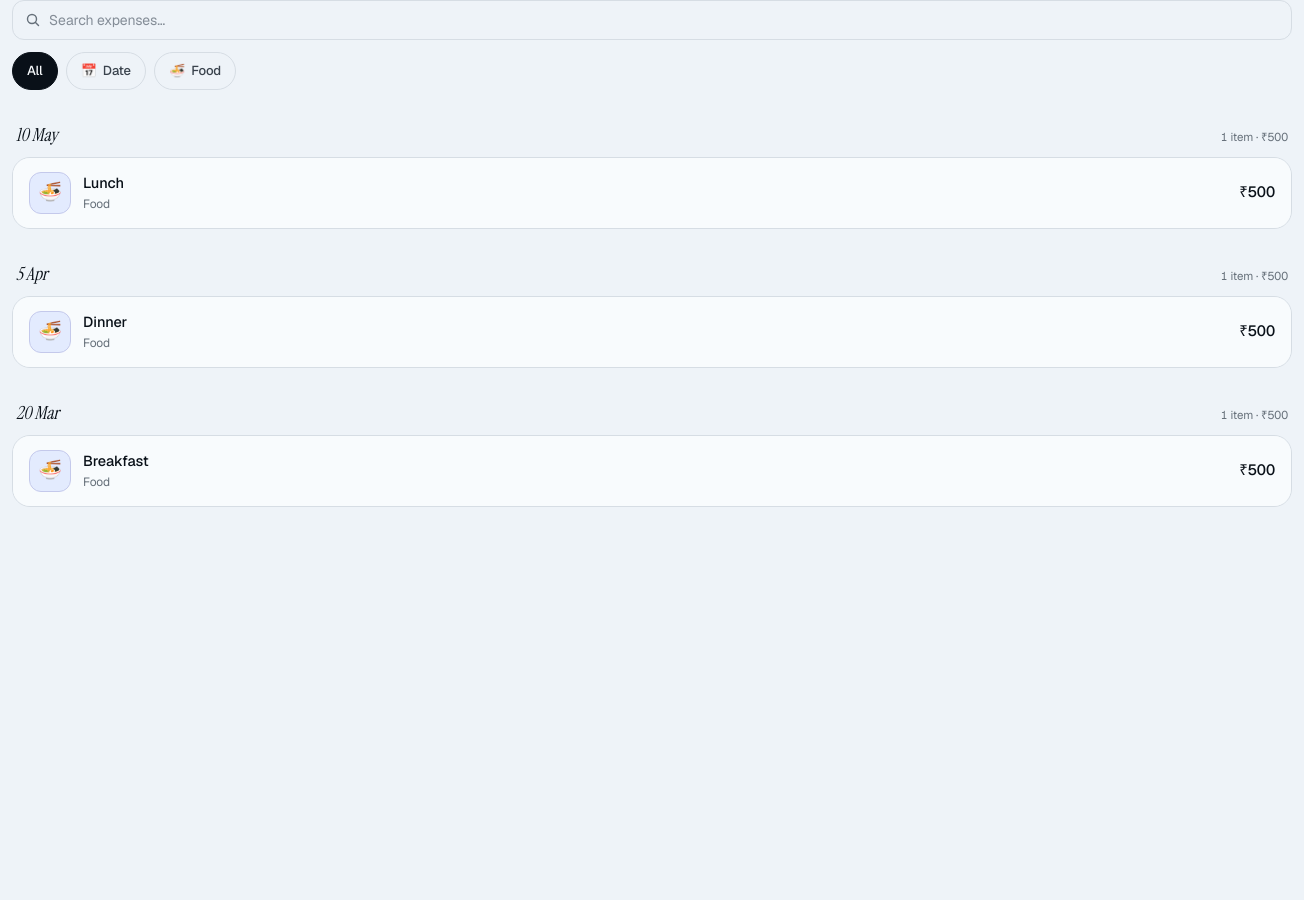
Test: MobileExpenses — date row validation › shows an inline error when from > to
Click the button "📅 Date" at (106, 71), box [66,52,146,90]
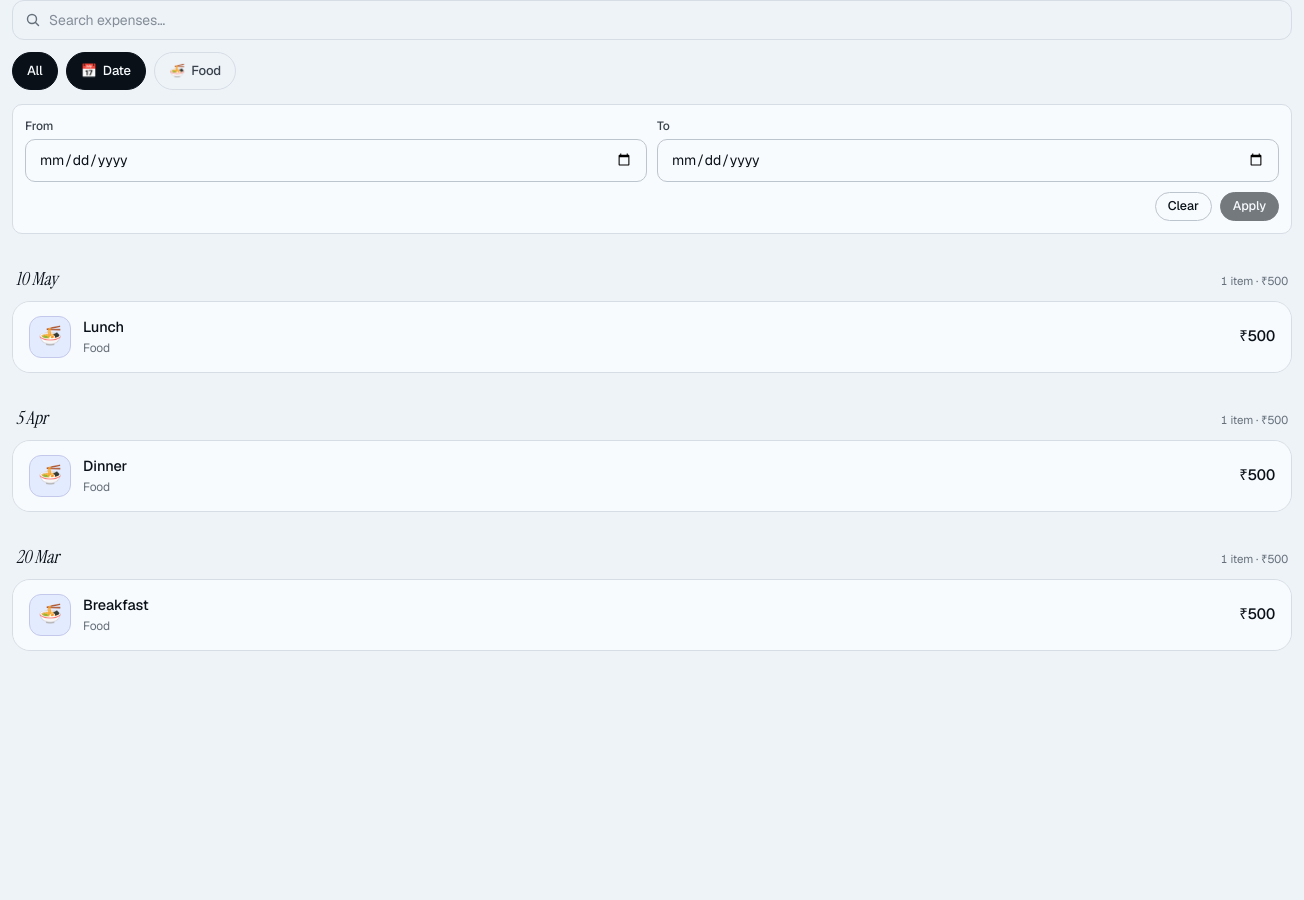
Type "2025-05-15" into the date field labelled "From" at (336, 160), box [25,138,647,182]
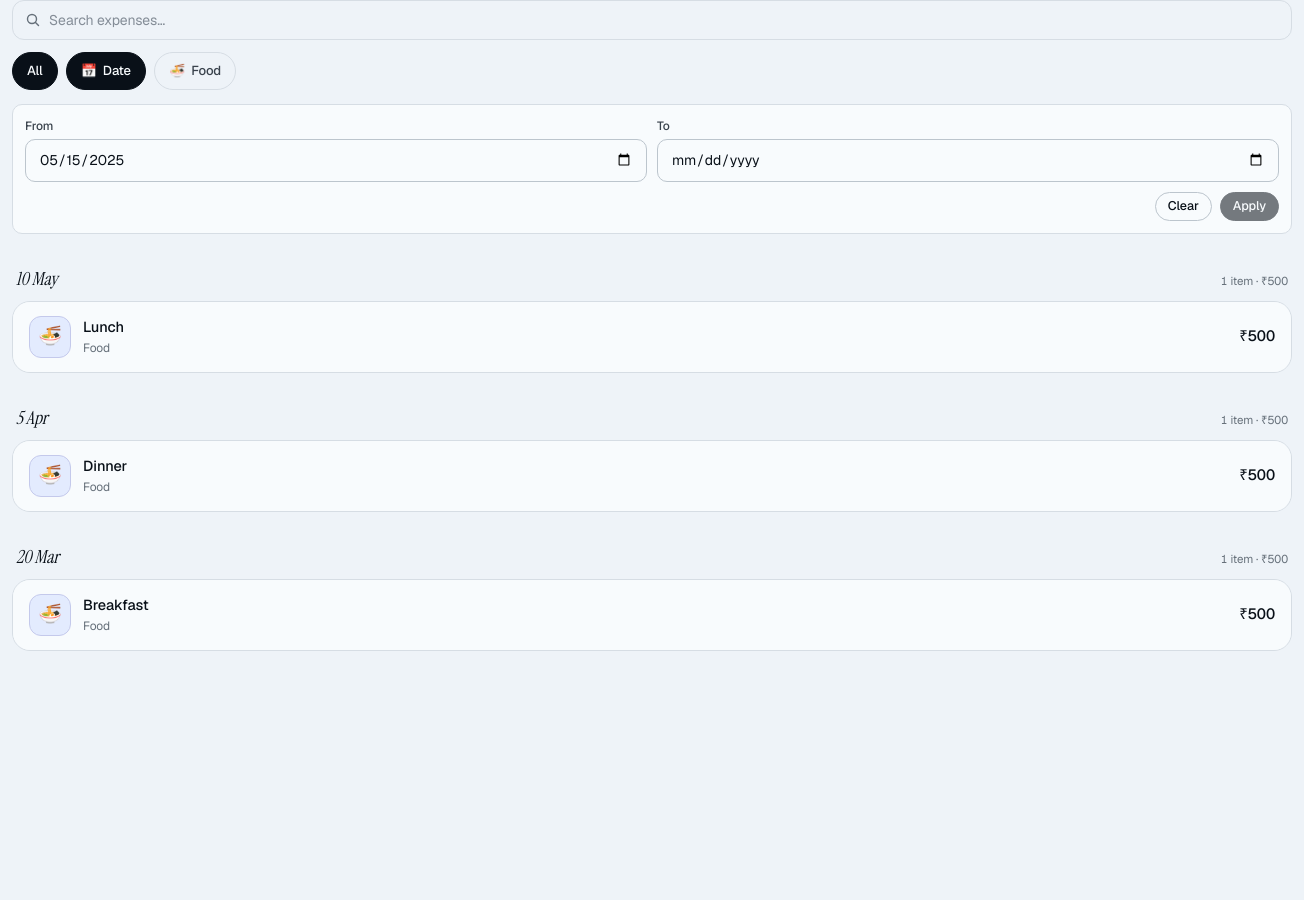
Type "2025-05-01" into the date field labelled "To" at (968, 160), box [657,138,1279,182]
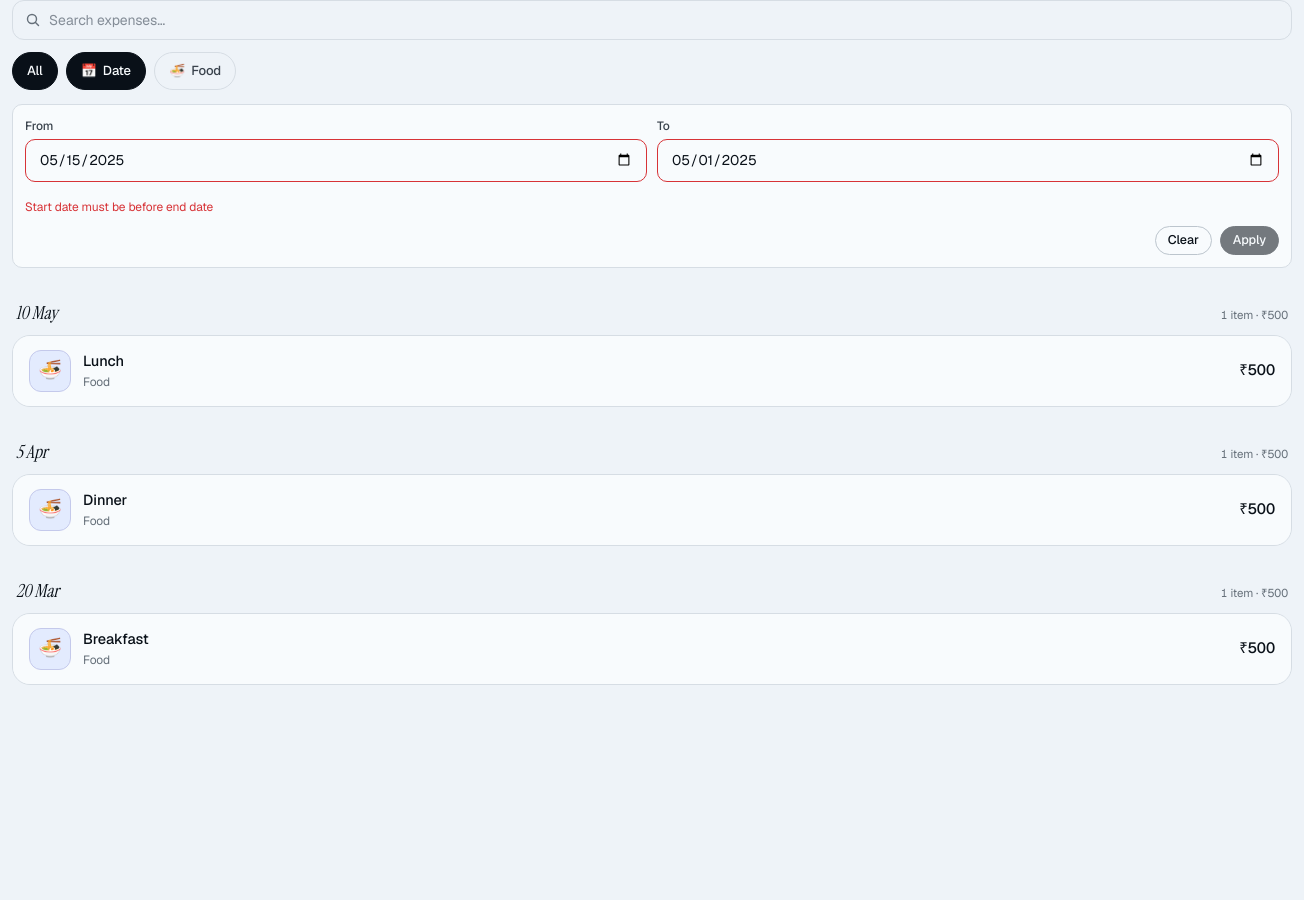
Expected: the text "Start date must be before end date" is shown, [25,199,213,215]
